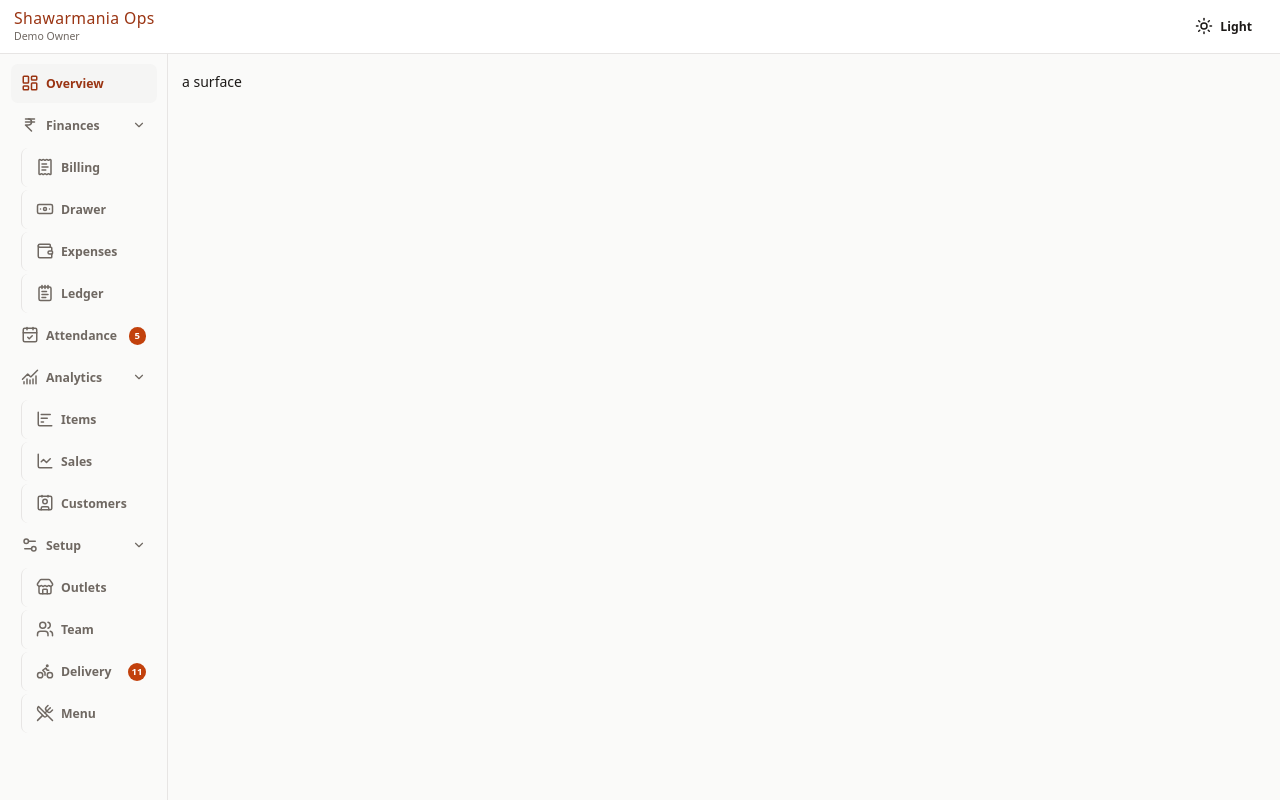
Test: the wide-screen rail › collapses a section to its sum, and drops its children from the page
Check: the element with test id "nav-badge-delivery-needs-you" is shown, box [128,663,146,680]
Click the button "Setup" at [84, 545], box [10,526,156,564]
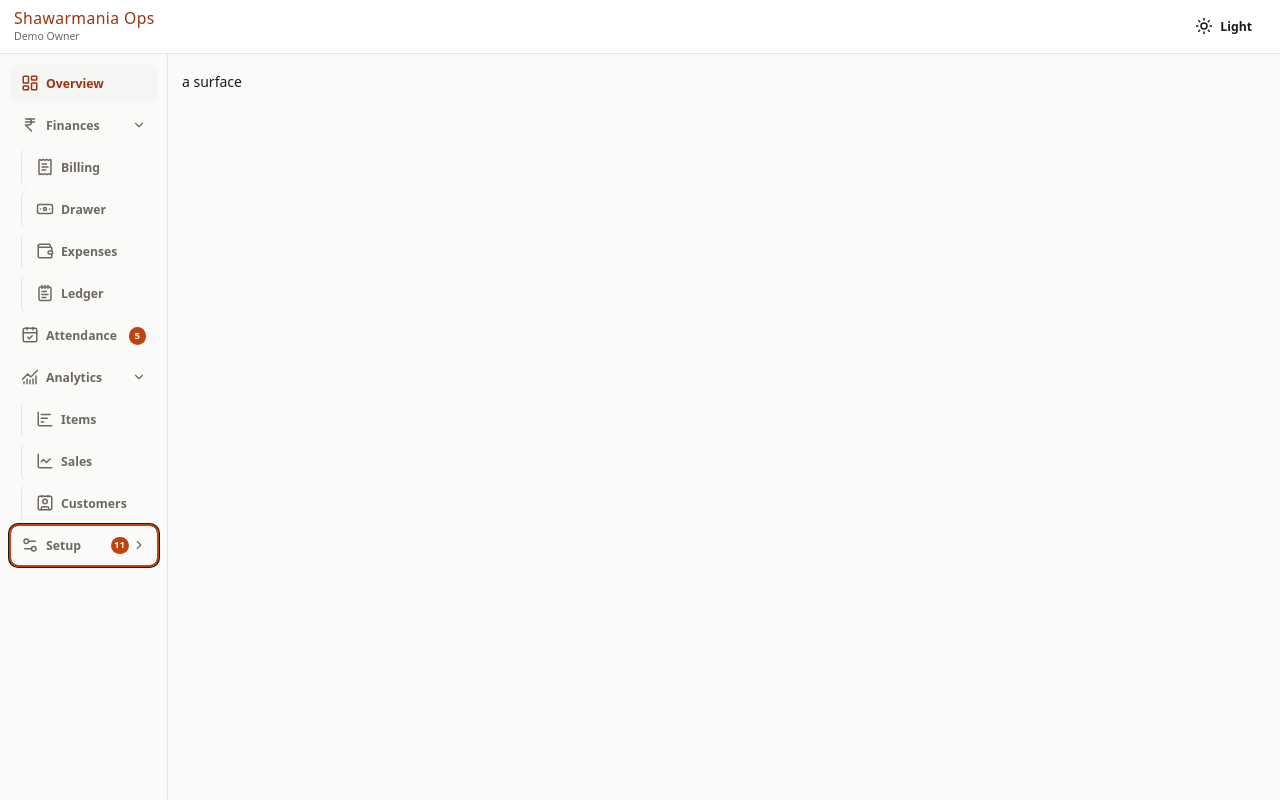
Check: the element with test id "nav-group-badge-setup" is shown, box [110,536,128,554]
Check: the link "Delivery" is gone
